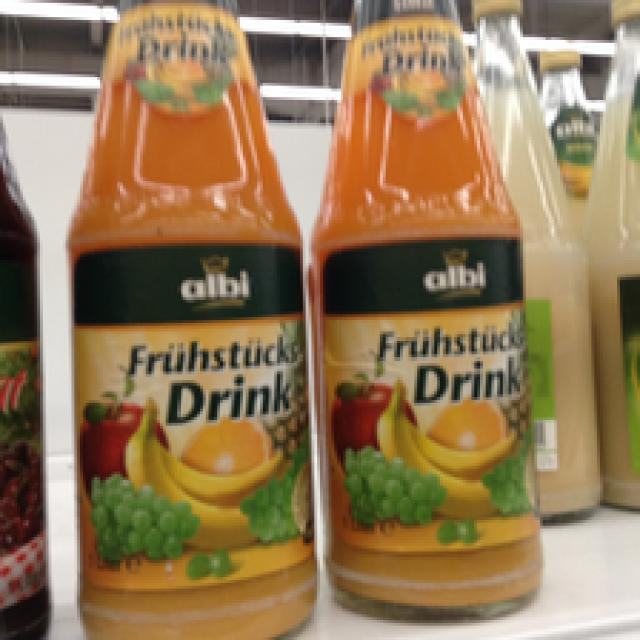groceries: (63, 0, 320, 634), (306, 0, 551, 620)
